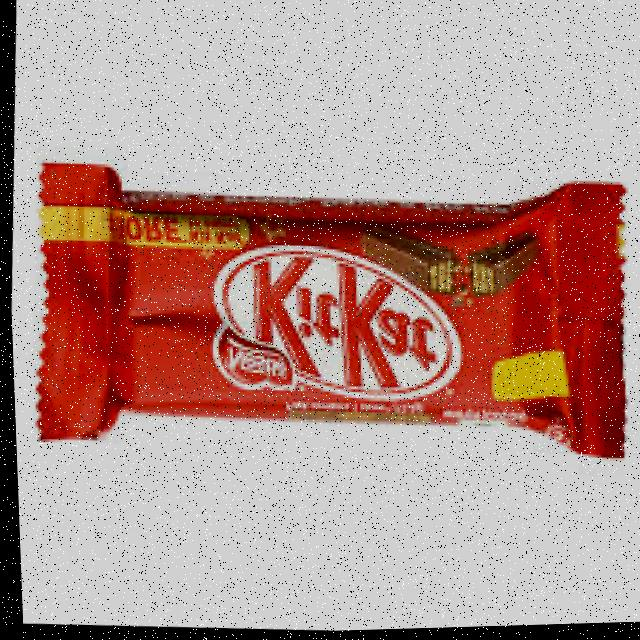kitkat: (27, 155, 635, 471)
